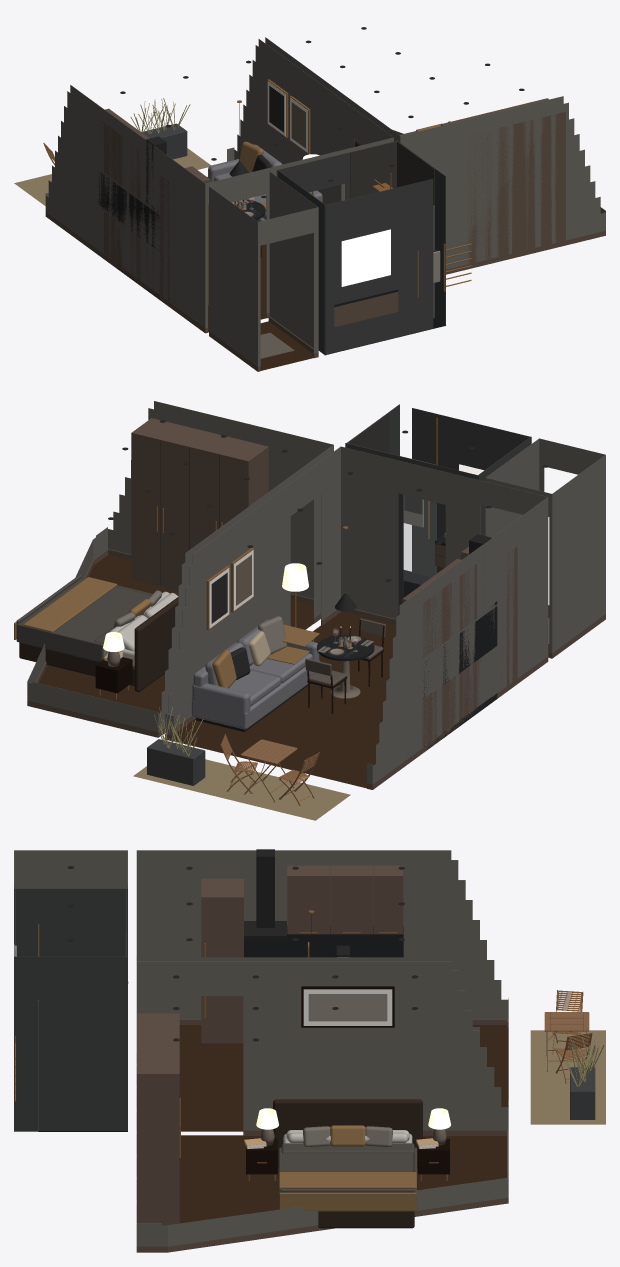
Rendered from unit-2.B-noir.glb.
3 renders of one model, top to bottom at view 1: azimuth 30°, elevation 25°; view 2: azimuth 150°, elevation 25°; view 3: azimuth 270°, elevation 25°, orthographic. The views are drawn at different scales.
Visible parts, largest first — view 1: int-wall, int-bathWall, int-joineryTall, int-showerWall, int-joinery, int-ledStrip, int-skirting, int-splash, int-metal, int-hallFloor, int-deck, int-outdoor (+9 smaller); view 2: int-wall, int-joineryTall, int-floor, int-bathWall, int-sofa, int-joinery, int-deck, int-duvet, int-headboard, int-skirting, int-glass, int-outdoor (+23 smaller); view 3: int-wall, int-bathWall, int-floor, int-joineryTall, int-joinery, int-headboard, int-deck, int-bedThrow, int-duvet, int-splash, int-skirting, int-woodDark (+13 smaller).
Boxes of the visible parts, <box> form: int-wall: <box>45,37,605,366</box>; int-bathWall: <box>276,140,445,355</box>; int-joineryTall: <box>159,98,565,327</box>; int-showerWall: <box>350,140,434,317</box>; int-joinery: <box>100,108,154,288</box>; int-ledStrip: <box>341,229,390,286</box>; int-skirting: <box>45,212,605,371</box>; int-splash: <box>98,172,159,245</box>; int-metal: <box>234,79,471,297</box>; int-hallFloor: <box>260,321,313,370</box>; int-deck: <box>14,148,210,205</box>; int-outdoor: <box>141,123,187,159</box>; int-wall: <box>27,401,605,784</box>; int-joineryTall: <box>131,418,517,690</box>; int-floor: <box>39,555,395,788</box>; int-bathWall: <box>345,404,531,614</box>; int-sofa: <box>191,619,319,729</box>; int-joinery: <box>402,559,497,746</box>; int-deck: <box>133,759,350,820</box>; int-duvet: <box>16,574,152,661</box>; int-headboard: <box>19,597,178,692</box>; int-skirting: <box>27,549,605,789</box>; int-glass: <box>404,495,436,584</box>; int-outdoor: <box>147,739,205,785</box>; int-wall: <box>14,850,508,1246</box>; int-bathWall: <box>14,888,127,1131</box>; int-floor: <box>179,1025,508,1223</box>; int-joineryTall: <box>137,878,243,1225</box>; int-joinery: <box>287,865,403,934</box>; int-headboard: <box>273,1099,422,1228</box>; int-deck: <box>530,1030,605,1124</box>; int-bedThrow: <box>279,1172,416,1211</box>; int-duvet: <box>278,1143,416,1209</box>; int-splash: <box>244,926,403,957</box>; int-skirting: <box>136,1019,508,1252</box>; int-woodDark: <box>246,986,449,1174</box>.
Bounding box in the file's own units: 7.52 × 2.8 × 8.26.
